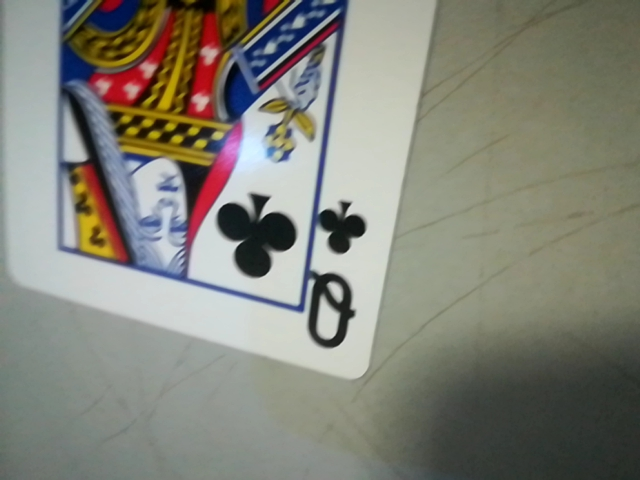mh q: (297, 187, 377, 366)
